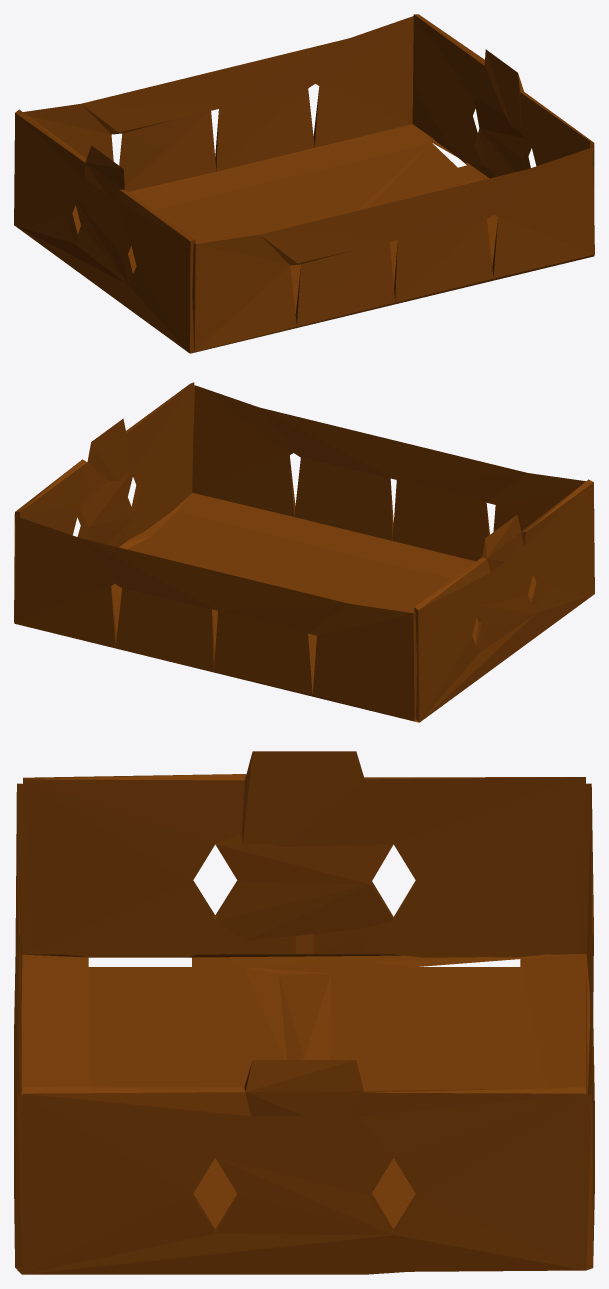
3 renders of one model, top to bottom at view 1: azimuth 30°, elevation 25°; view 2: azimuth 150°, elevation 25°; view 3: azimuth 270°, elevation 25°, orthographic. The views are drawn at different scales.
Visible parts, largest first — view 1: box; view 2: box; view 3: box.
Boxes of the visible parts, box(x1,y1,x2,y2) form: box: box(14, 14, 594, 353); box: box(14, 382, 594, 722); box: box(14, 751, 594, 1274).
Bounding box in the file's own units: 18.45 × 5.71 × 14.17.
